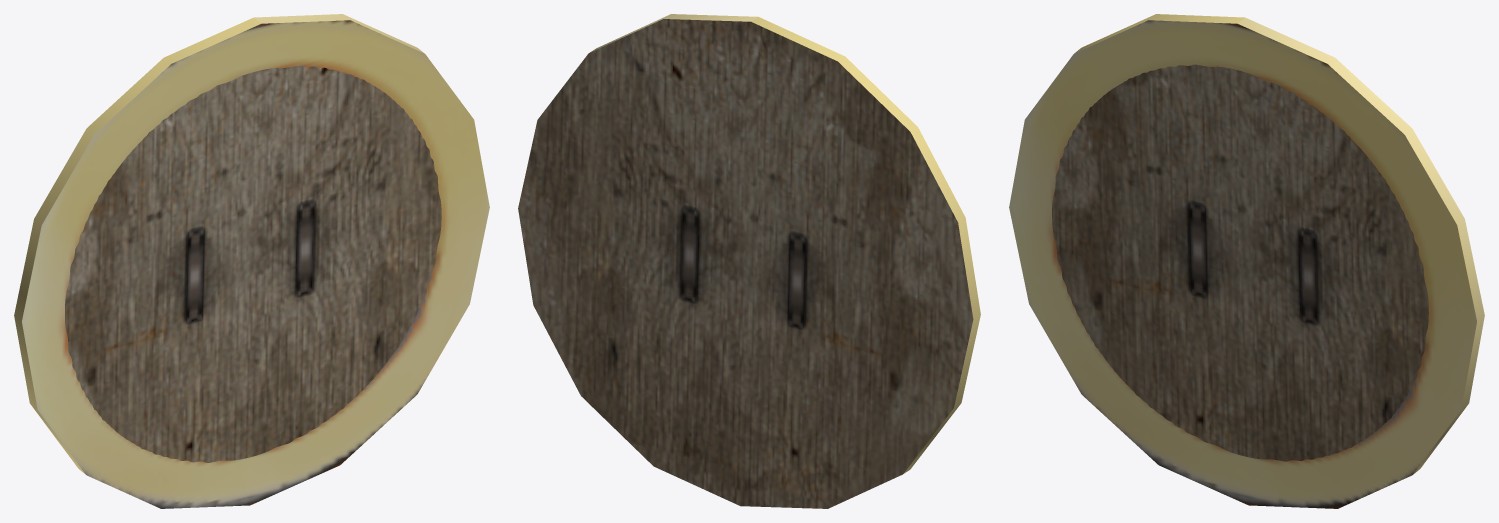
File: shield_zapo_wood.dae
The picture shows the model from 3 angles, left to right: view 1: azimuth 30°, elevation 25°; view 2: azimuth 150°, elevation 25°; view 3: azimuth 330°, elevation 25°; orthographic projection. The views are drawn at different scales.
Parts seen in each view (by area): view 1: shield_wood_meso; view 2: shield_wood_meso; view 3: shield_wood_meso.
Boxes of the visible parts, <box> form: shield_wood_meso: <box>14,14,489,508</box>; shield_wood_meso: <box>518,14,980,508</box>; shield_wood_meso: <box>1009,14,1484,508</box>.
Size of the model in its own units: 1.35 by 0.0939 by 1.35.
